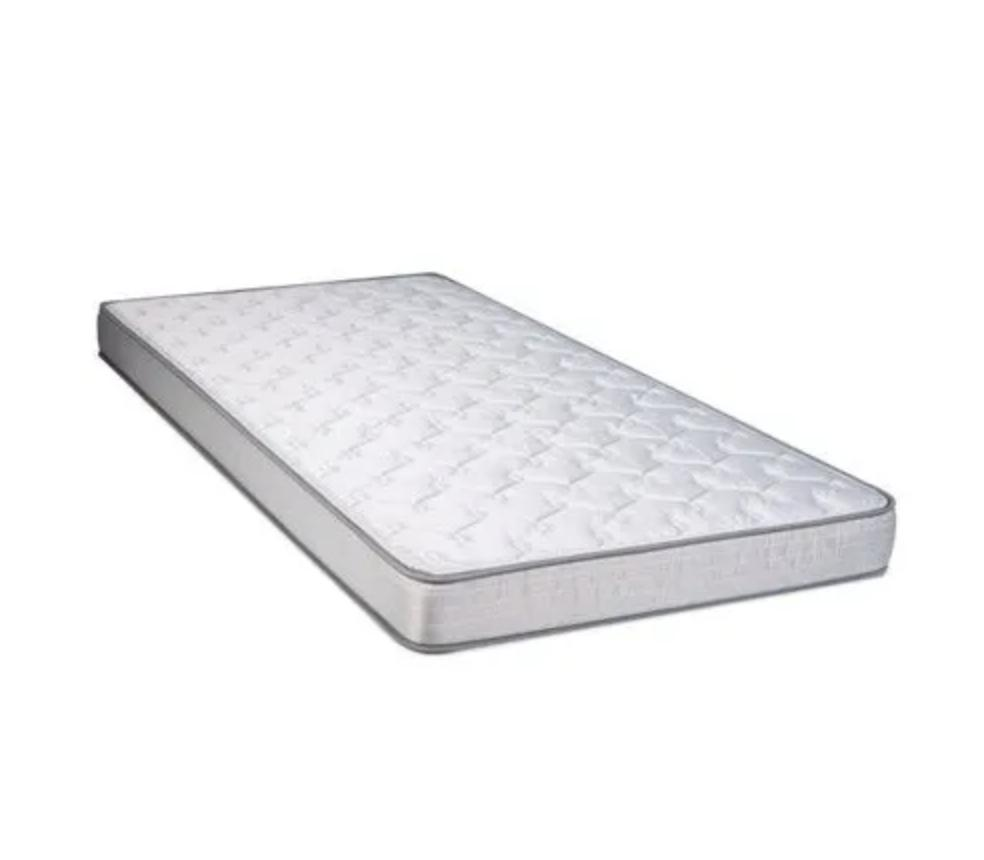Bed-Mattress: (89, 264, 906, 665)
